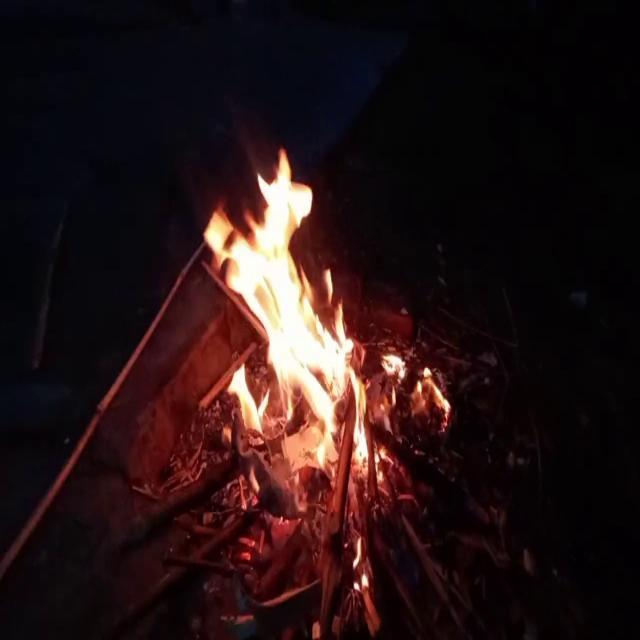Fire: (202, 129, 381, 491), (378, 338, 456, 432)
